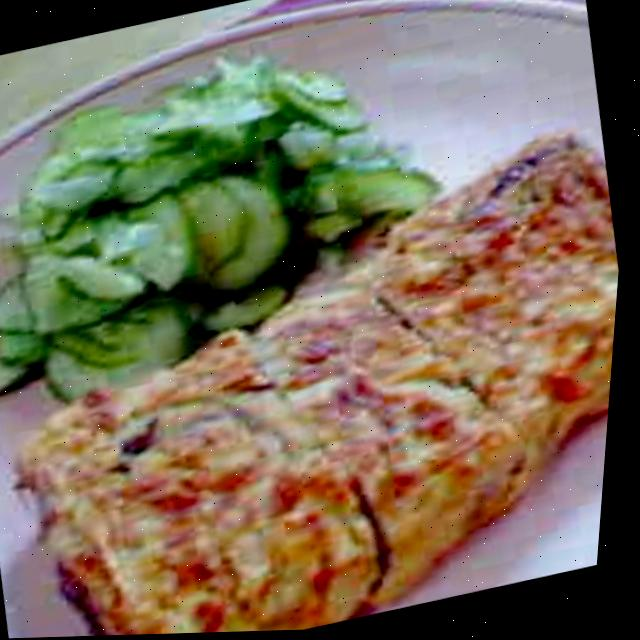鸡蛋料理: (0, 101, 633, 640)
